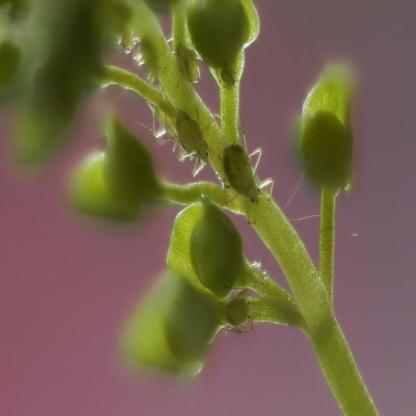aphid: (219, 132, 276, 212), (169, 112, 215, 176), (220, 283, 261, 338)
